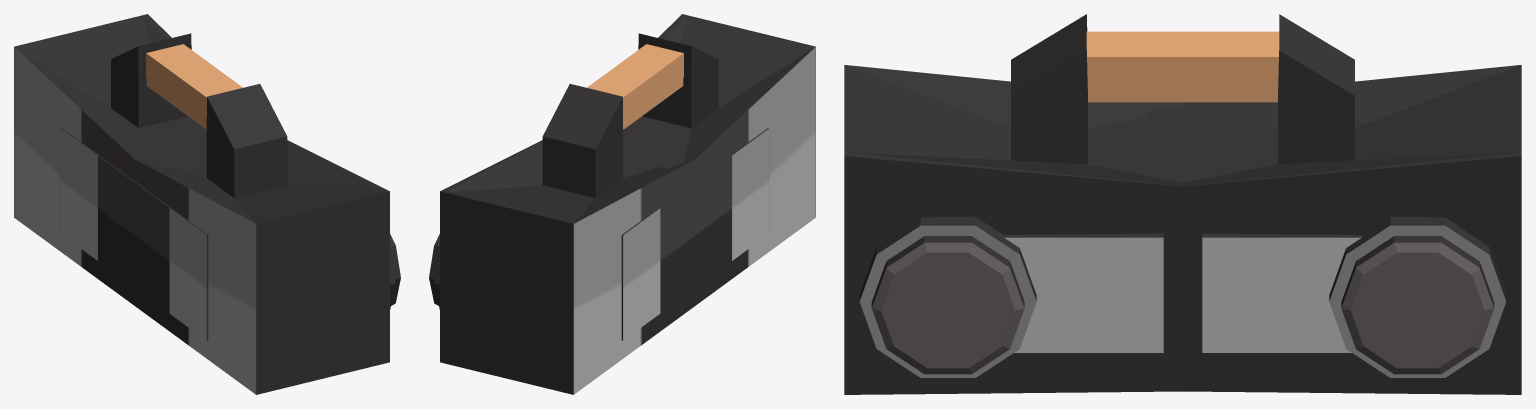
Rendered from radio.fbx.
3 views of the same model, side by side, from view 1: azimuth 30°, elevation 25°; view 2: azimuth 150°, elevation 25°; view 3: azimuth 270°, elevation 25° (orthographic). The views are drawn at different scales.
Visible parts, largest first — view 1: Cylinder.005; view 2: Cylinder.005; view 3: Cylinder.005.
Part boxes in pixels (x1,y1,x2,y2): Cylinder.005: (14, 14, 400, 394); Cylinder.005: (429, 14, 815, 394); Cylinder.005: (844, 14, 1521, 394).
Bounding box in the file's own units: 41.51 × 56.38 × 110.
